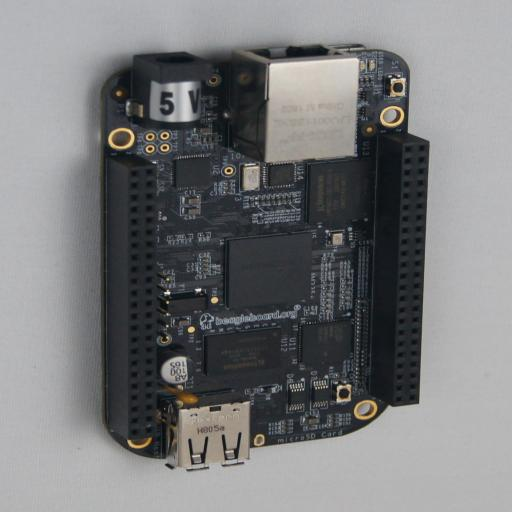Beaglebone Black: (86, 44, 429, 471)
